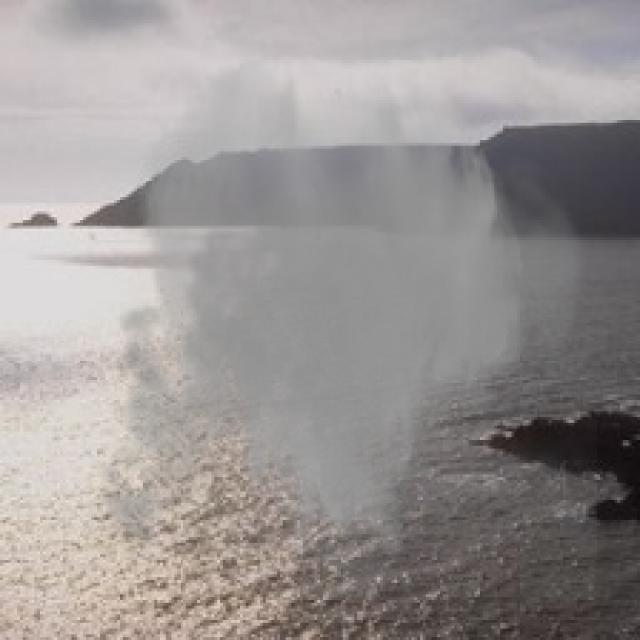smoke: (83, 54, 597, 600)
